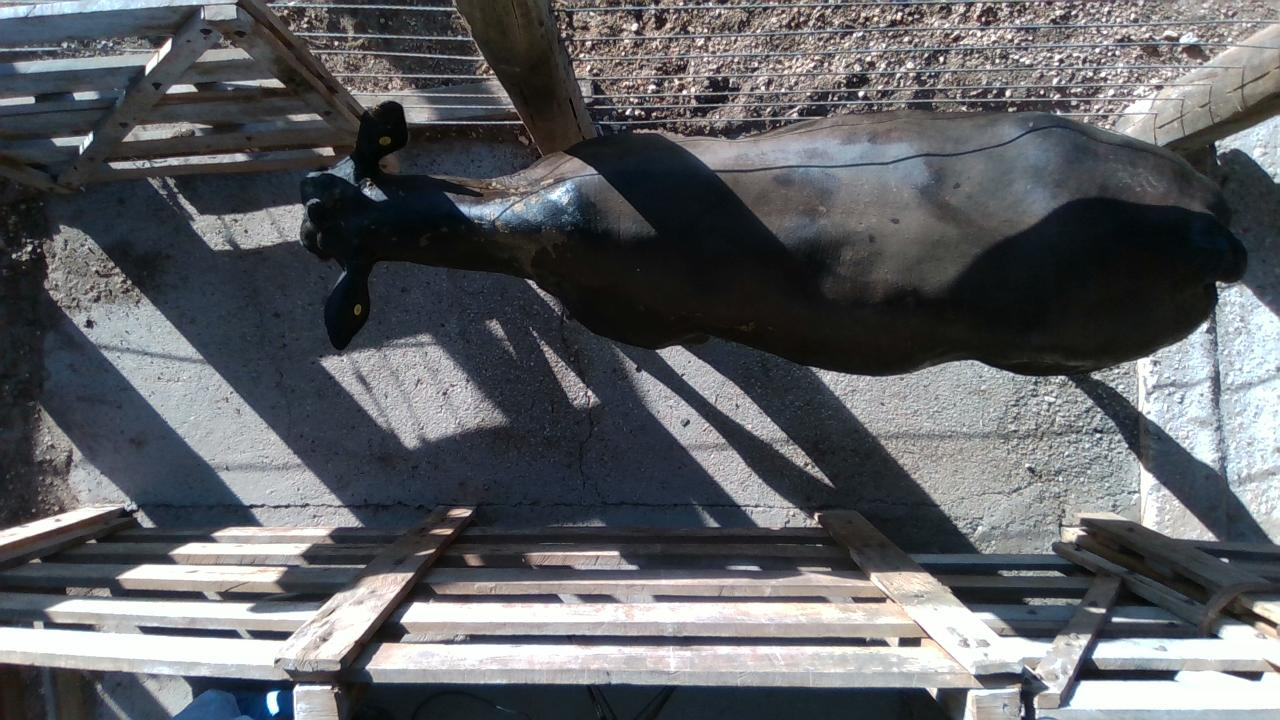cattle: (298, 100, 1248, 380)
